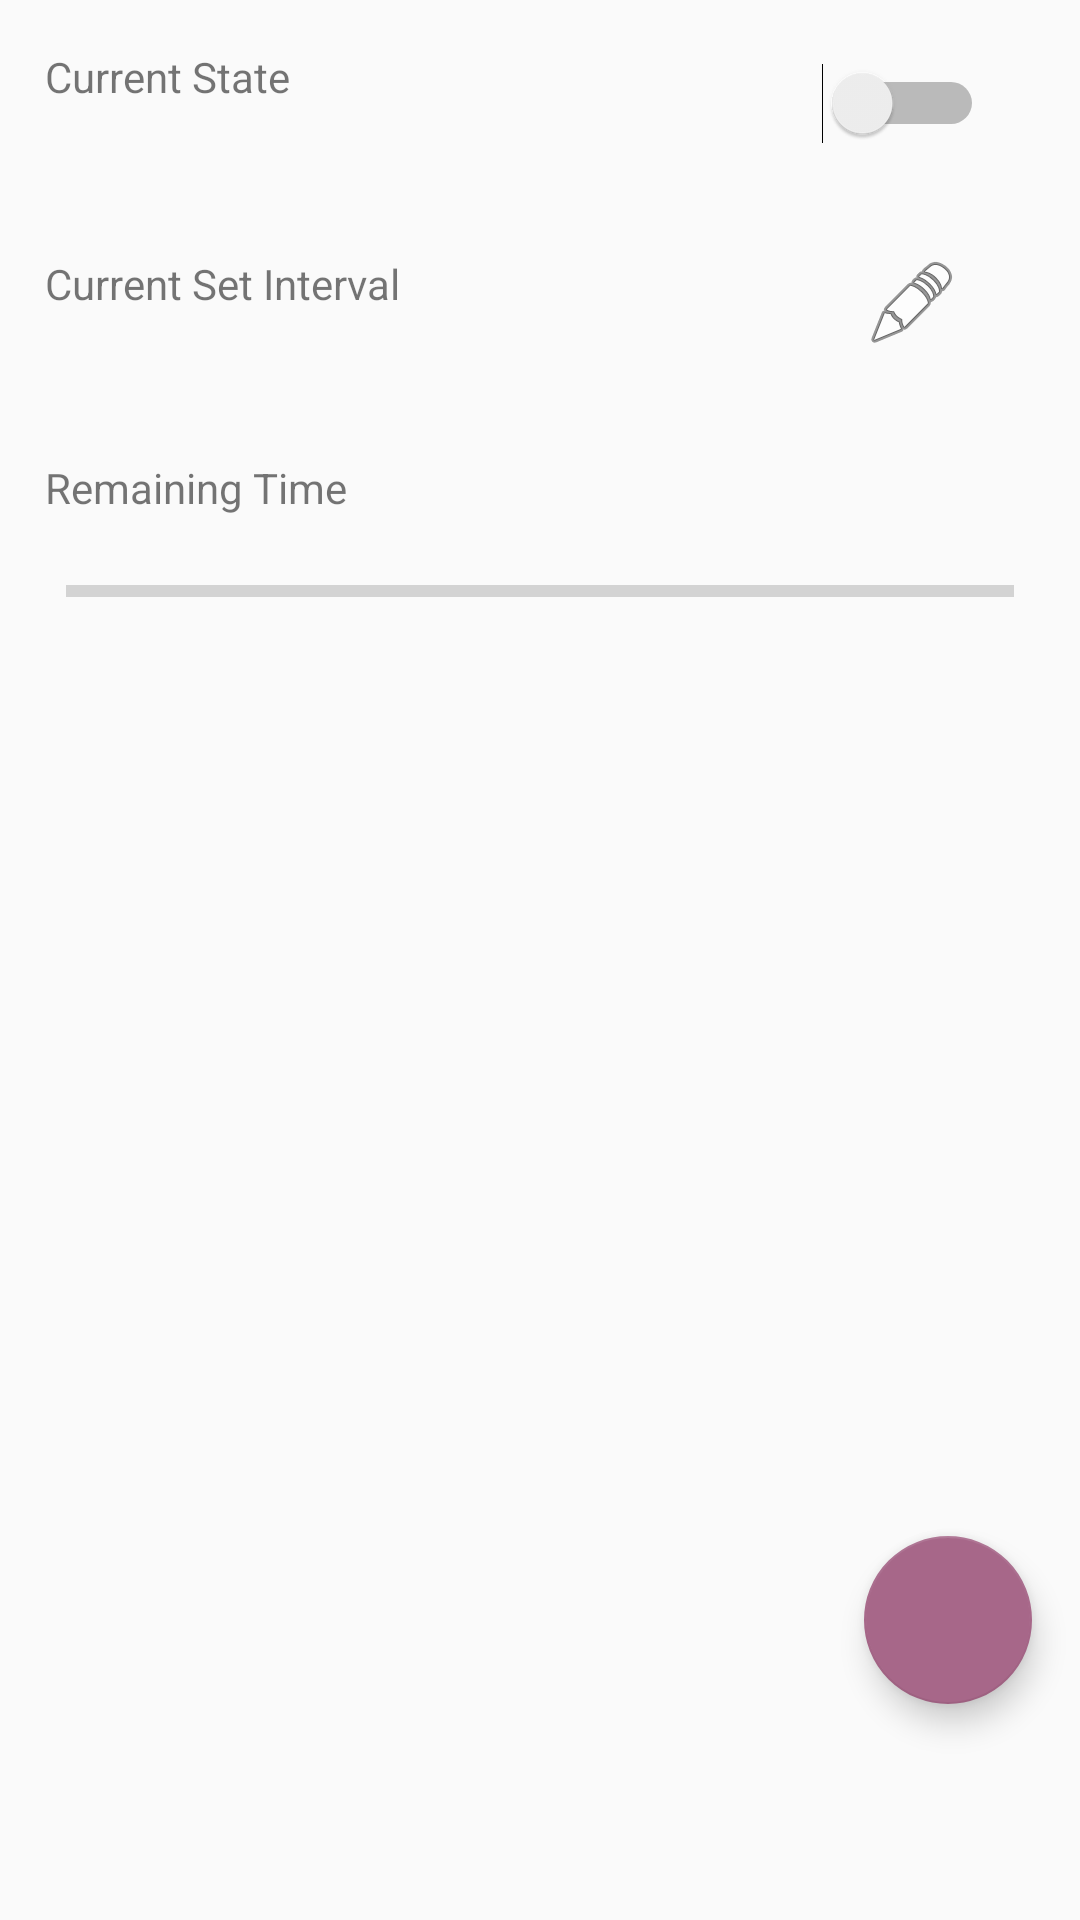

Icon click points for this 1080px×1920px phone screenshot, format (x,y):
Edit: (911,302)
